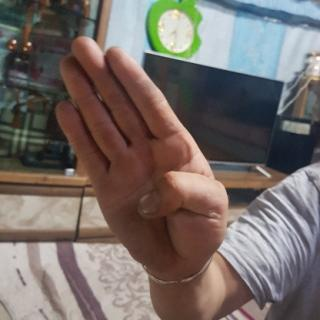KAAF: (47, 31, 233, 283)
